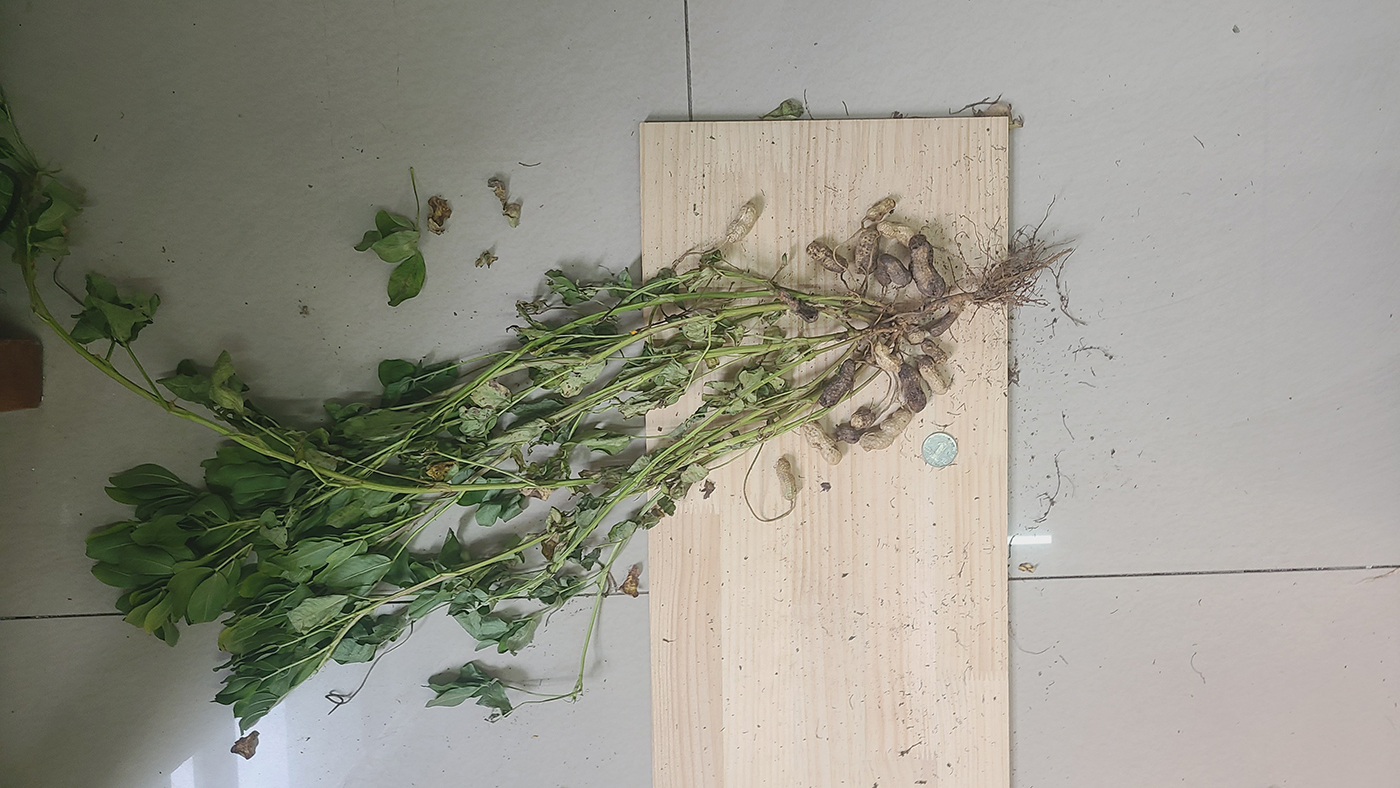h: (857, 408, 911, 453), (805, 420, 841, 465), (725, 200, 758, 244), (919, 354, 947, 397), (856, 227, 878, 274), (877, 219, 913, 243), (776, 458, 796, 501), (865, 198, 896, 221), (876, 342, 898, 373)
l: (909, 233, 945, 300), (818, 358, 856, 408), (778, 289, 819, 323), (806, 241, 848, 273), (837, 409, 875, 443), (901, 365, 925, 413), (881, 254, 912, 285), (928, 310, 959, 338), (919, 341, 946, 361), (875, 262, 890, 285)
